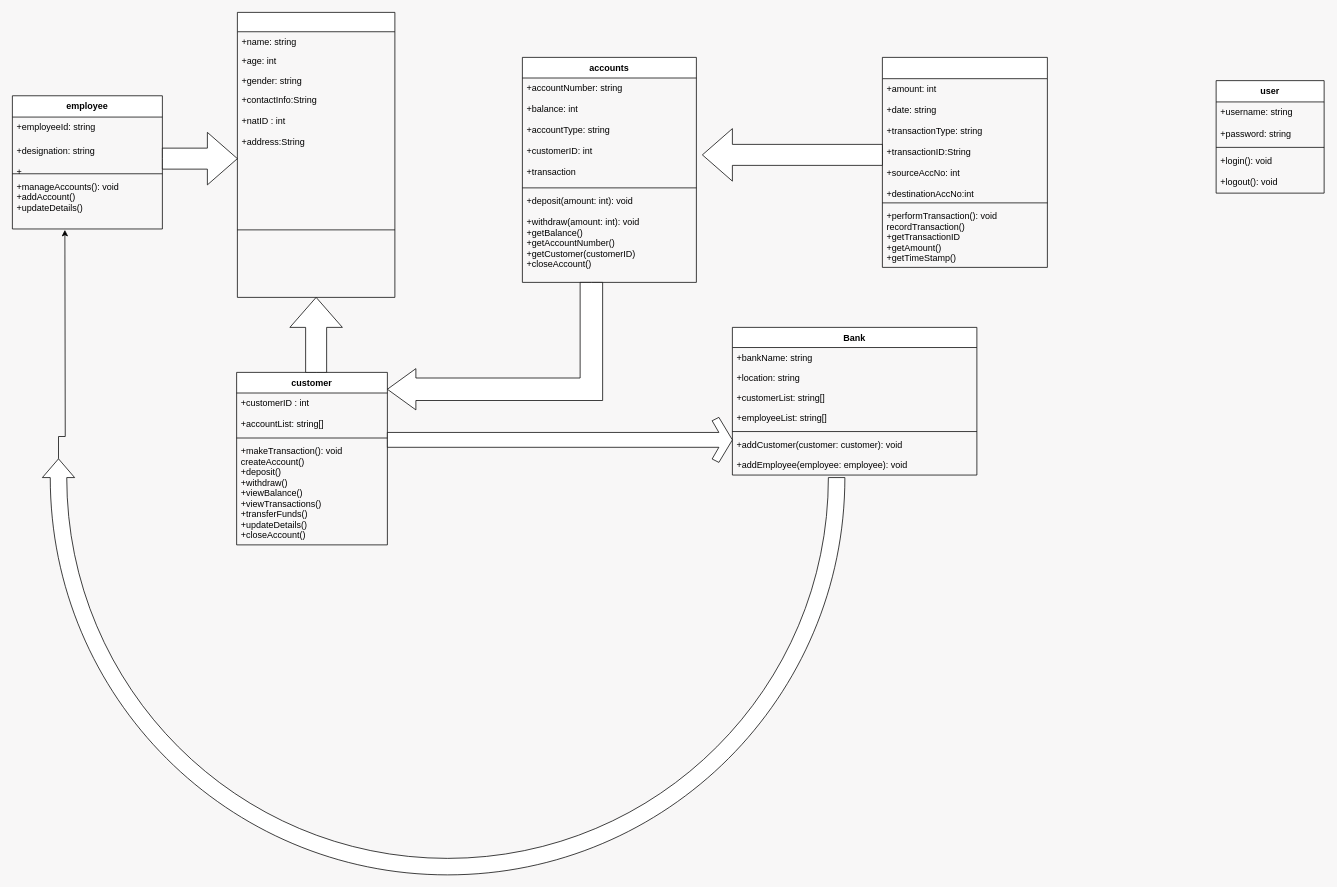
This 1337x887 diagram has some shape labels left out. The box of each missing label's shape, as (x1, y1, x2, y2) in pixels:
person: (237, 12, 395, 297)
transactions: (882, 57, 1047, 267)
